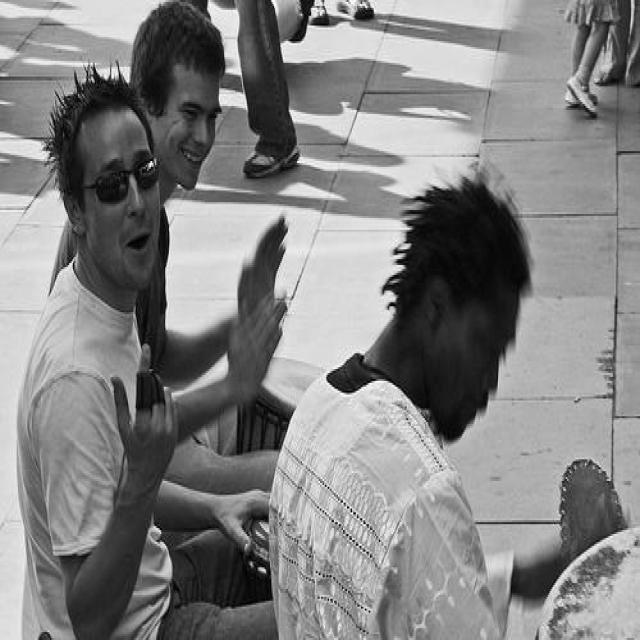Non-Gloves: (110, 346, 176, 496), (200, 474, 280, 564), (227, 302, 286, 404), (233, 210, 289, 313)
